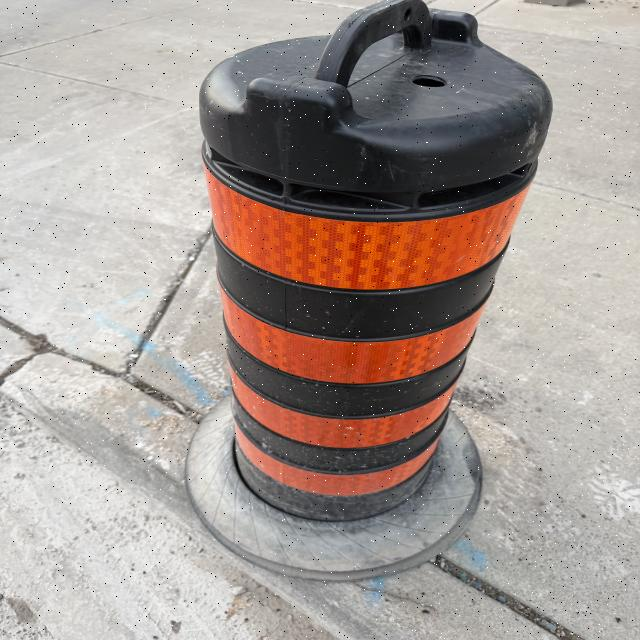Teraffic Barrel: (201, 0, 552, 522)
